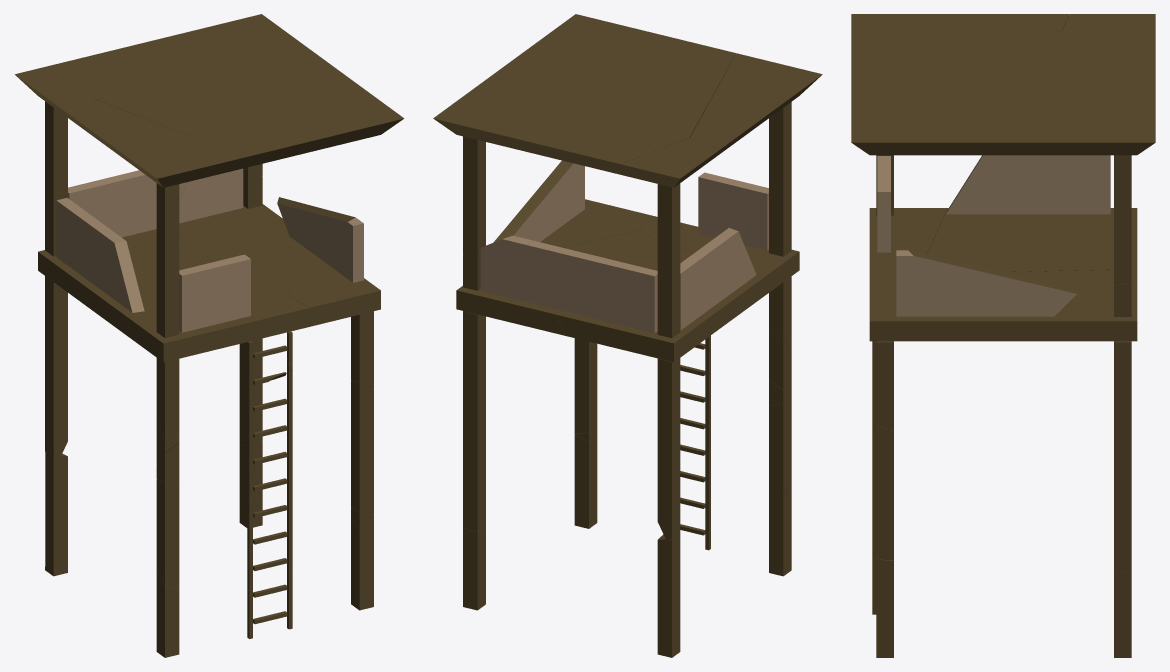
The model's file is SM_UpPost1.obj.
3 views of the same model, side by side, from view 1: azimuth 30°, elevation 25°; view 2: azimuth 150°, elevation 25°; view 3: azimuth 270°, elevation 25° (orthographic). The views are drawn at different scales.
Visible parts, largest first — view 1: up_post_1; view 2: up_post_1; view 3: up_post_1.
Part boxes in pixels (x1,y1,x2,y2): up_post_1: (15, 14, 404, 657); up_post_1: (433, 14, 822, 657); up_post_1: (851, 14, 1155, 657).
Size of the model in its own units: 3.41 by 6.49 by 3.41.
